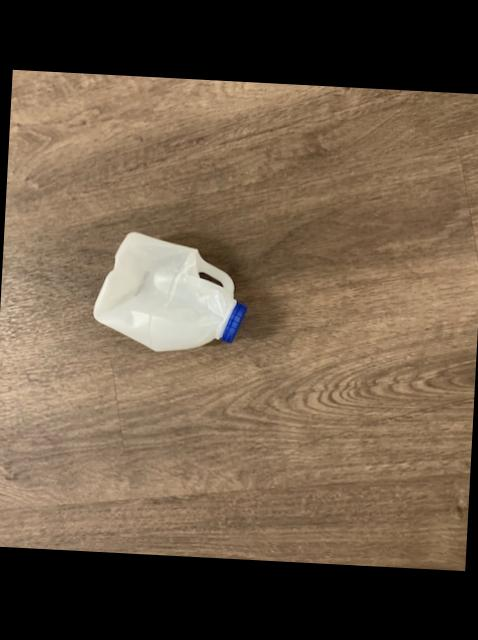plastic: (92, 230, 245, 349)
